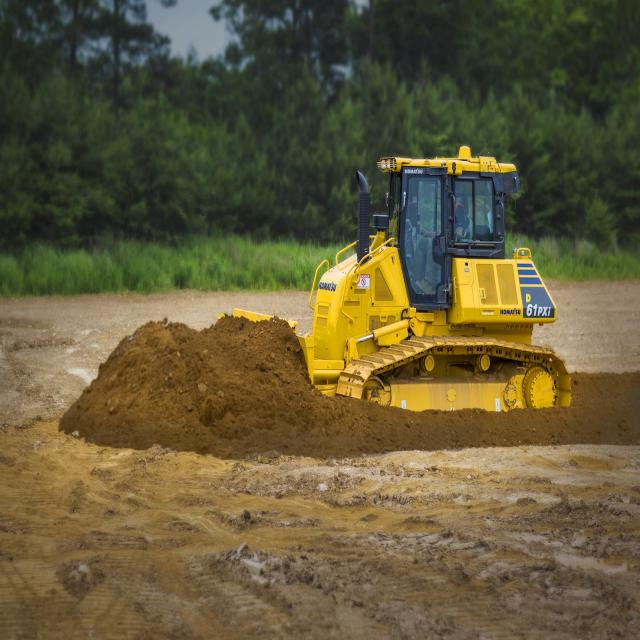Bulldozer: (227, 151, 577, 440)
